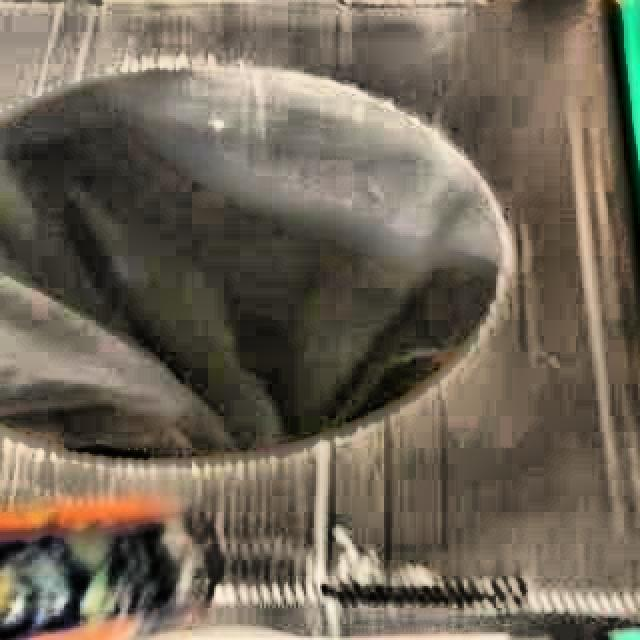metal: (0, 497, 211, 640)
